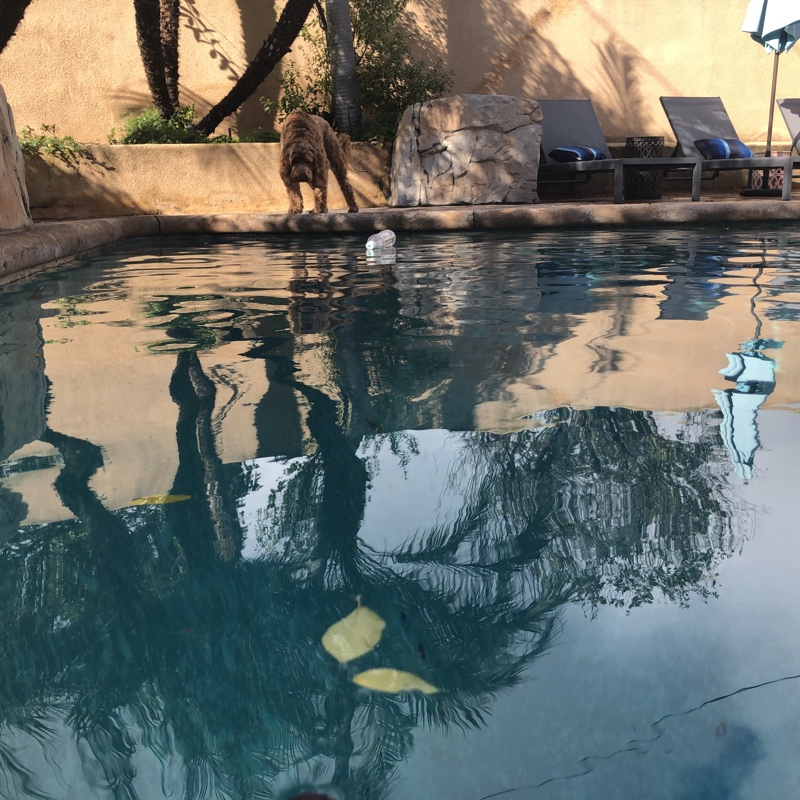Plastic Bottle: (363, 230, 395, 254)
